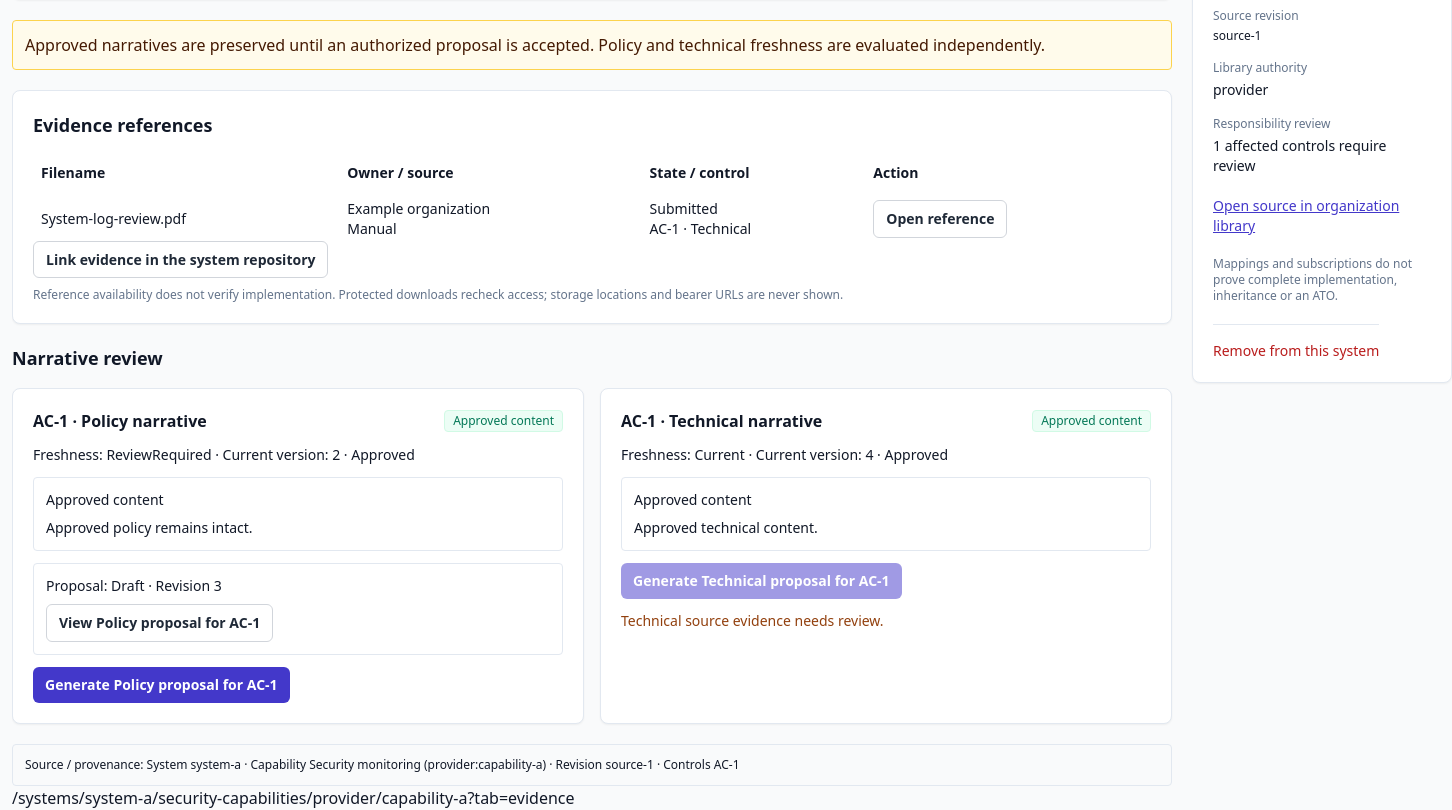
Test: System capability detail › uses the independent current narrative author permission and version when generating
The image size is (1452, 810).
(page scrolled)
Click the button "Generate Policy proposal for AC-1" at (161, 685), box top-left (33, 667), bottom-right (290, 703)
(page scrolled)
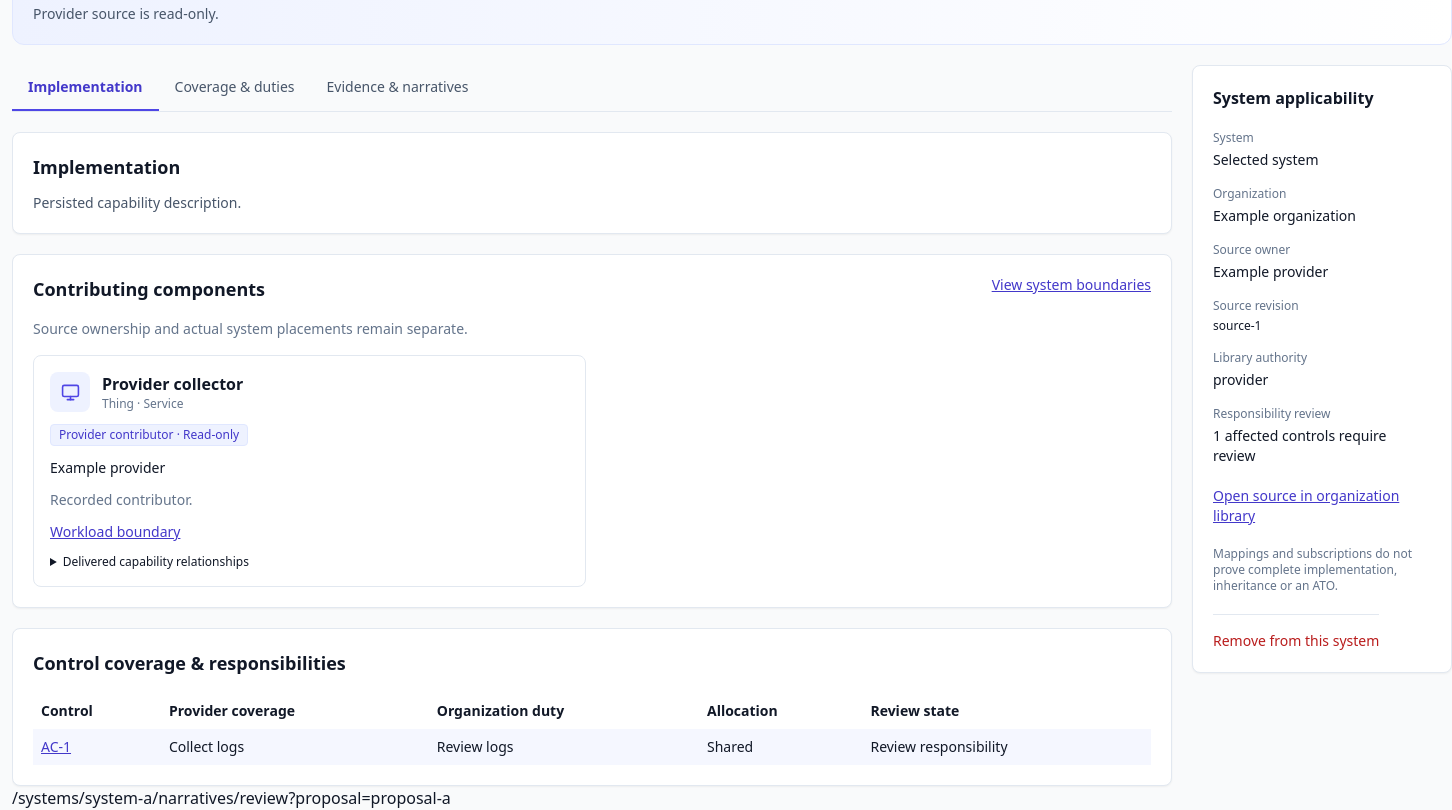
expect the text named "Current route" reads "/systems/system-a/narratives/review?proposal=proposal-a": met, box top-left (12, 787), bottom-right (451, 809)
